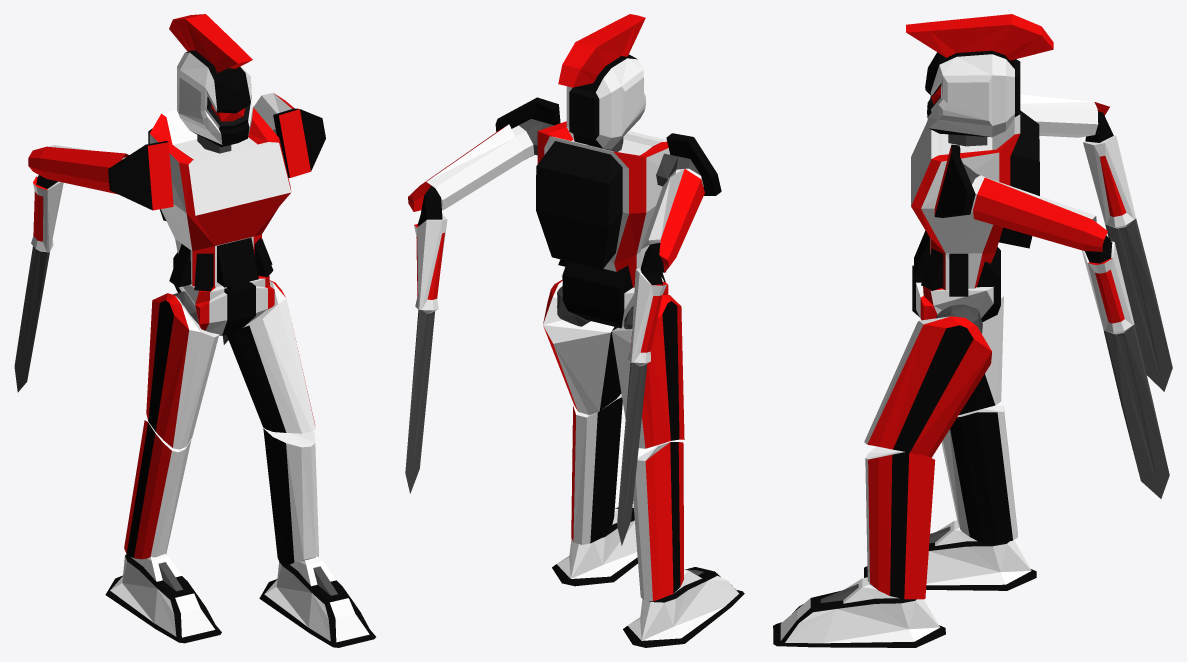
Rendered from robots_000010.obj.
3 views of the same model, side by side, from view 1: azimuth 30°, elevation 25°; view 2: azimuth 150°, elevation 25°; view 3: azimuth 270°, elevation 25° (orthographic). The views are drawn at different scales.
Parts seen in each view (by area): view 1: Chest_plate_Cube.004, Head_gladiator_Cube.024, R_Thigh_Cube.005, R_Thigh.002_Cube.027, R_Forearm.001_Cube.028, R_Shin.002_Cube.029, R_Foot.002_Cube.035, R_Foot_Cube, R_Shin_Cube.007, Pelvis_Cube.006, R_Arm.002_Cube.032, R_Arm.003_Cube.034 (+1 smaller); view 2: Chest_plate_Cube.004, R_Forearm.002_Cube.033, R_Forearm.001_Cube.028, Head_gladiator_Cube.024, R_Shin_Cube.007, R_Thigh_Cube.005, R_Shin.002_Cube.029, R_Thigh.002_Cube.027, R_Foot_Cube, Pelvis_Cube.006, R_Foot.002_Cube.035, R_Arm.002_Cube.032 (+1 smaller); view 3: R_Forearm.002_Cube.033, Chest_plate_Cube.004, Head_gladiator_Cube.024, R_Thigh.002_Cube.027, R_Forearm.001_Cube.028, R_Shin.002_Cube.029, R_Foot.002_Cube.035, R_Shin_Cube.007, R_Foot_Cube, Pelvis_Cube.006, R_Arm.003_Cube.034, R_Thigh_Cube.005 (+1 smaller).
Boxes of the visible parts, box(x1,y1,x2,y2) form: Chest_plate_Cube.004: box(148, 108, 291, 291); Head_gladiator_Cube.024: box(169, 14, 253, 147); R_Thigh_Cube.005: box(146, 293, 219, 449); R_Thigh.002_Cube.027: box(227, 280, 315, 433); R_Forearm.001_Cube.028: box(14, 145, 128, 392); R_Shin.002_Cube.029: box(263, 427, 318, 565); R_Foot.002_Cube.035: box(259, 557, 375, 647); R_Foot_Cube: box(105, 554, 221, 643); R_Shin_Cube.007: box(124, 420, 191, 559); Pelvis_Cube.006: box(173, 252, 274, 335); R_Arm.002_Cube.032: box(108, 141, 173, 210); R_Arm.003_Cube.034: box(273, 108, 325, 177); Chest_plate_Cube.004: box(536, 121, 669, 287); R_Forearm.002_Cube.033: box(405, 124, 524, 493); R_Forearm.001_Cube.028: box(617, 168, 704, 545); Head_gladiator_Cube.024: box(558, 14, 645, 149); R_Shin_Cube.007: box(633, 442, 683, 601); R_Thigh_Cube.005: box(611, 295, 684, 448); R_Shin.002_Cube.029: box(571, 393, 622, 544); R_Thigh.002_Cube.027: box(543, 279, 621, 414); R_Foot_Cube: box(623, 567, 744, 647); Pelvis_Cube.006: box(561, 261, 668, 328); R_Foot.002_Cube.035: box(552, 507, 637, 586); R_Arm.002_Cube.032: box(656, 133, 721, 195); R_Forearm.002_Cube.033: box(973, 177, 1169, 498); Chest_plate_Cube.004: box(911, 110, 1039, 296); Head_gladiator_Cube.024: box(906, 14, 1053, 137); R_Thigh.002_Cube.027: box(864, 316, 991, 457); R_Forearm.001_Cube.028: box(1020, 94, 1172, 391); R_Shin.002_Cube.029: box(865, 446, 935, 599); R_Foot.002_Cube.035: box(773, 577, 945, 647); R_Shin_Cube.007: box(941, 402, 1017, 543); R_Foot_Cube: box(864, 520, 1036, 590); Pelvis_Cube.006: box(912, 247, 1000, 322); R_Arm.003_Cube.034: box(934, 144, 988, 217); R_Thigh_Cube.005: box(959, 288, 1003, 414).
Bounding box in the file's own units: 1.51 × 3.19 × 1.96.
